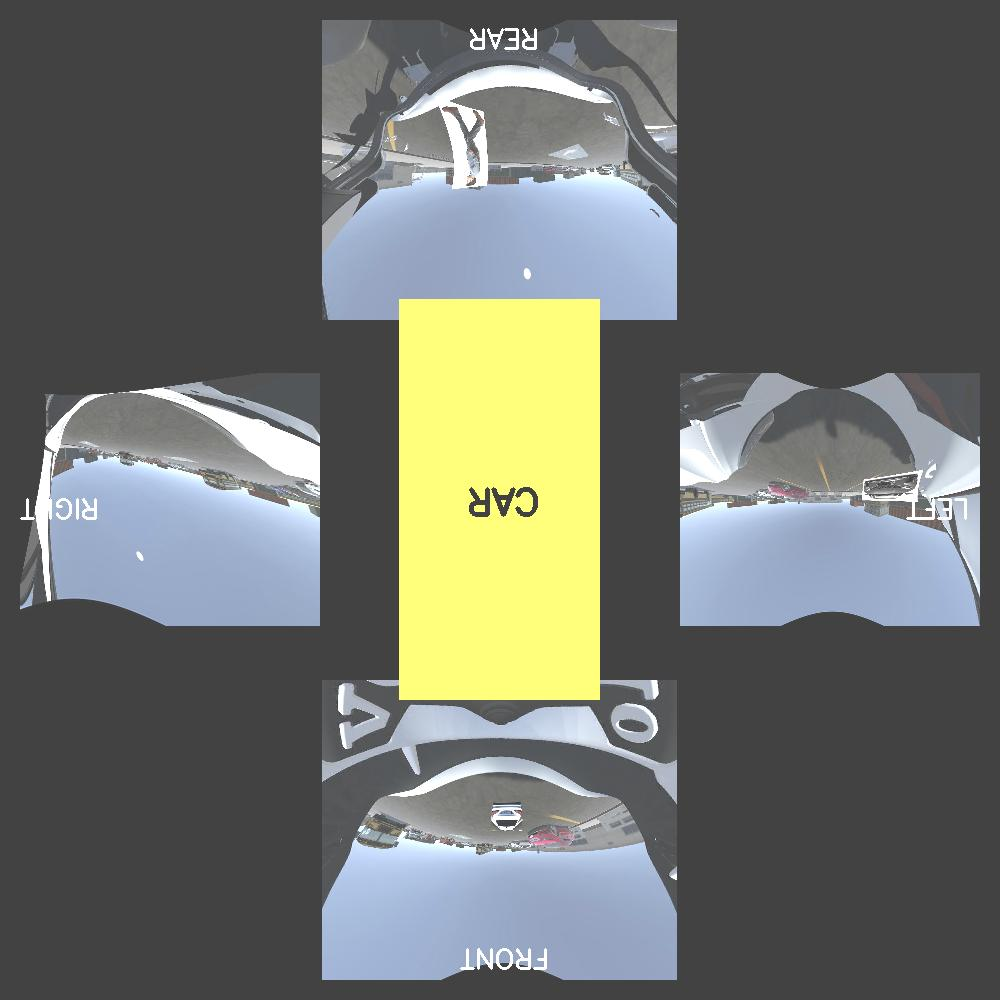Car: (862, 471, 921, 504), (488, 804, 522, 832)
objects: (435, 100, 489, 187)
